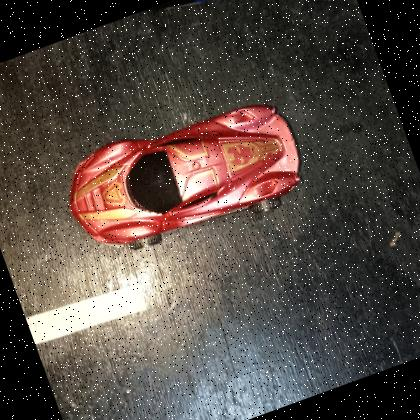Car: (68, 103, 301, 244)
